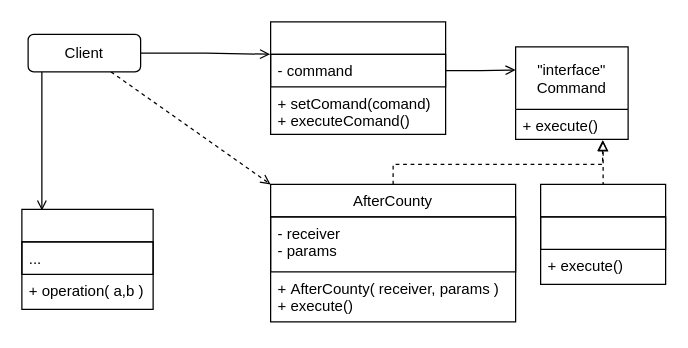
This 688x348 diagram has some shape labels left out. Here are the shapes that lost their labels. From the top down, the box of each, then its label:
(269, 21, 446, 134): Human
(539, 183, 666, 284): BeforeСounty
(21, 208, 153, 309): Computer
